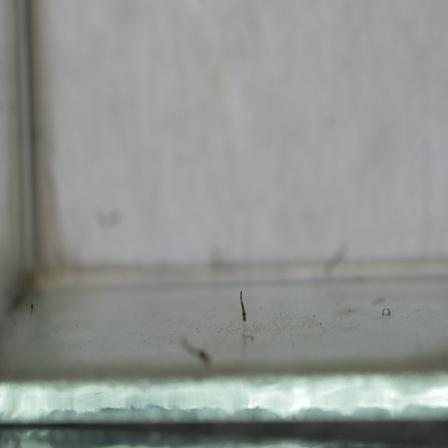Jentik-Nyamuk: (236, 287, 250, 324)
